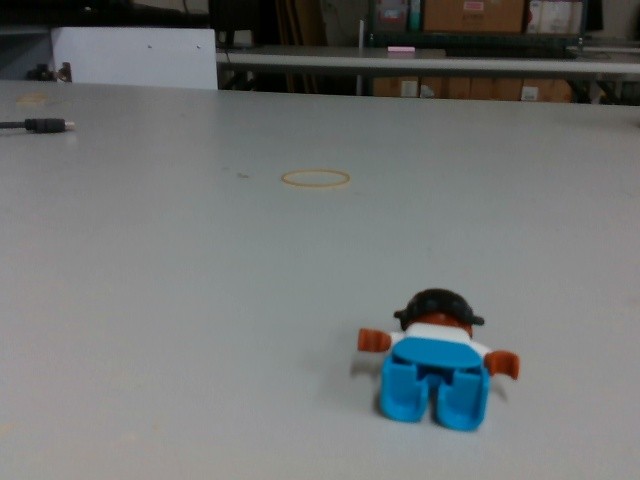people: (350, 285, 526, 432)
